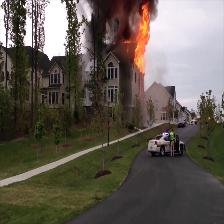fire: (89, 0, 132, 40), (135, 13, 149, 69)
